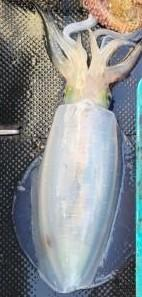Cephalopod: (12, 9, 141, 292)
